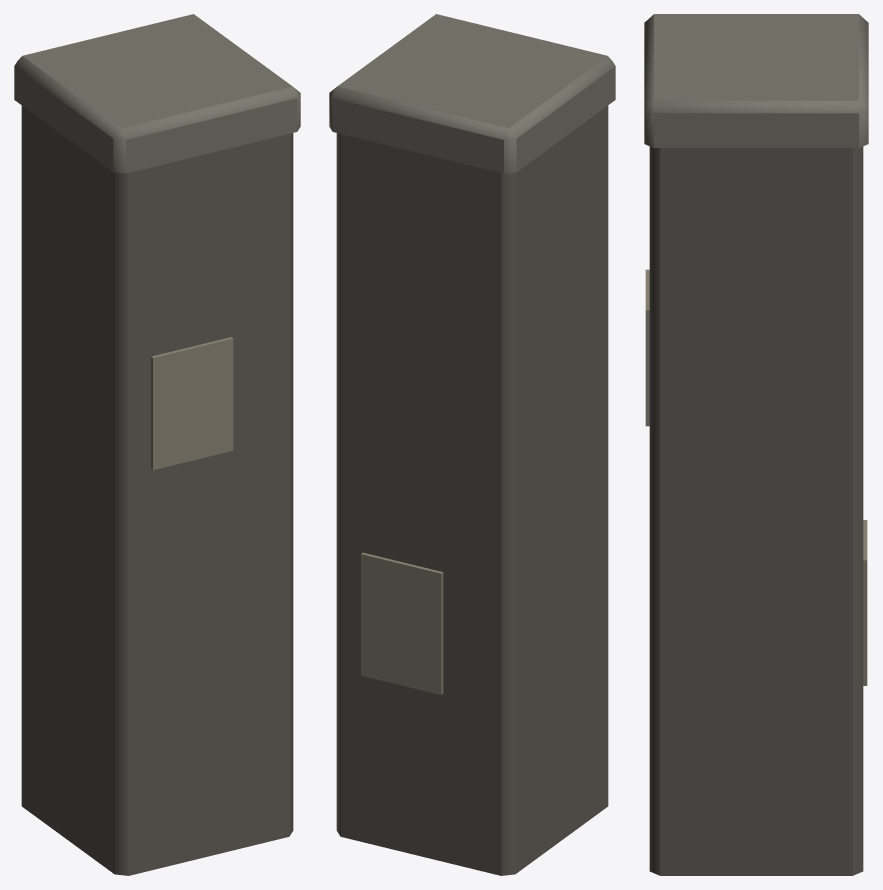
The model's file is ancient_fence_post.obj.
The picture shows the model from 3 angles, left to right: view 1: azimuth 30°, elevation 25°; view 2: azimuth 150°, elevation 25°; view 3: azimuth 270°, elevation 25°; orthographic projection. The views are drawn at different scales.
Parts seen in each view (by area): view 1: concrete_post, post_cap, retained_24; view 2: concrete_post, post_cap, retained_36; view 3: concrete_post, post_cap, retained_36, retained_24.
Part boxes in pixels (box(x1,y1,x2,y2)): concrete_post: box(21, 105, 293, 875); post_cap: box(14, 14, 300, 173); retained_24: box(151, 337, 233, 470); concrete_post: box(336, 105, 608, 875); post_cap: box(329, 14, 615, 173); retained_36: box(361, 552, 443, 694); concrete_post: box(649, 146, 863, 875); post_cap: box(644, 14, 868, 147); retained_36: box(863, 520, 867, 685); retained_24: box(645, 269, 649, 426).
Size of the model in its own units: 0.21 by 0.8 by 0.21.
